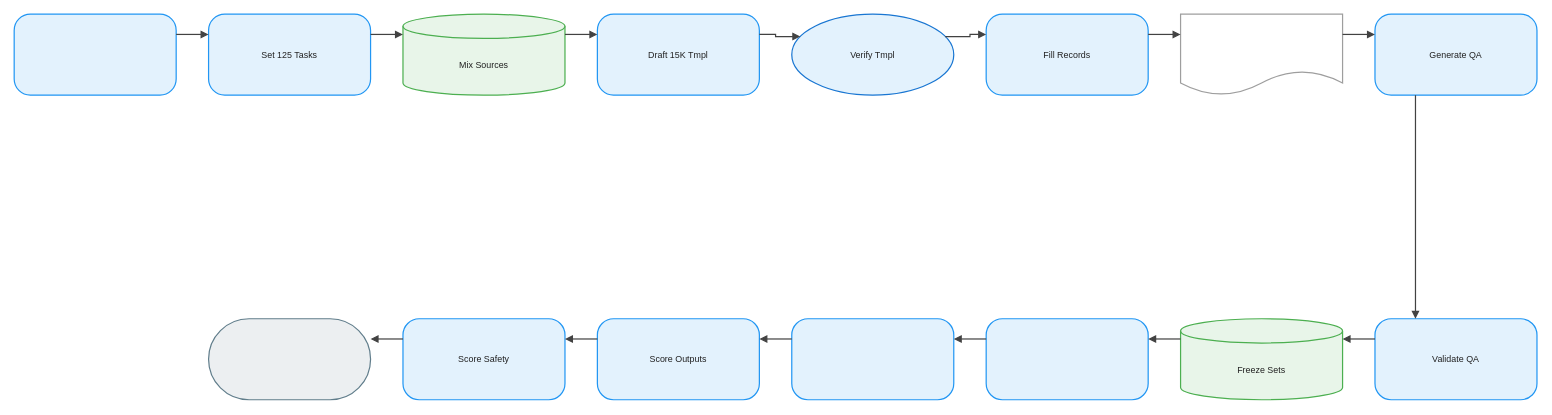
Image size: 1552x415. Some labels were removed from this diagram. The box of each missing label's shape, as (x1, y1, x2, y2) in pixels:
Analyze Gaps: (208, 318, 371, 400)
Know vs Risk: (13, 13, 176, 95)
Run Task Types: (791, 318, 954, 400)
Sample Repeats: (985, 318, 1148, 400)
Segment Text: (1180, 13, 1343, 95)
